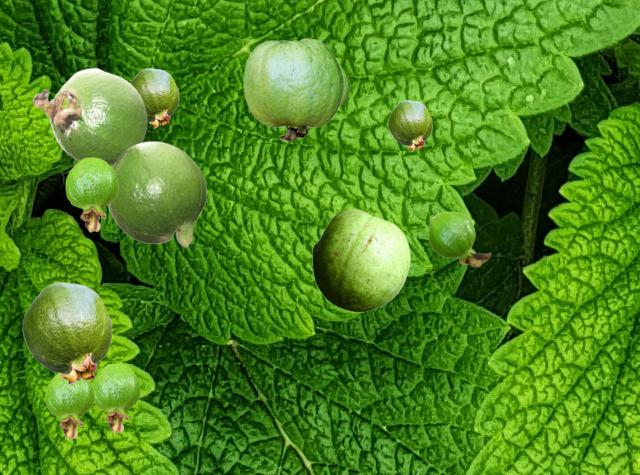guava: (32, 67, 147, 164), (107, 140, 206, 247), (243, 38, 343, 140), (312, 209, 409, 311), (22, 282, 111, 384), (65, 157, 117, 231), (428, 211, 490, 266), (92, 363, 139, 432), (45, 374, 93, 438), (130, 68, 178, 127), (388, 100, 431, 150), (340, 66, 349, 106)
